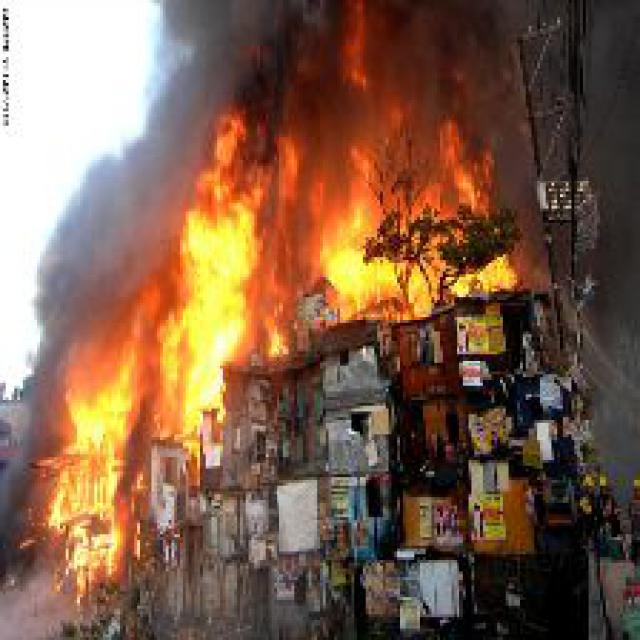fire: (52, 103, 314, 466), (309, 88, 520, 332), (23, 351, 146, 600)
